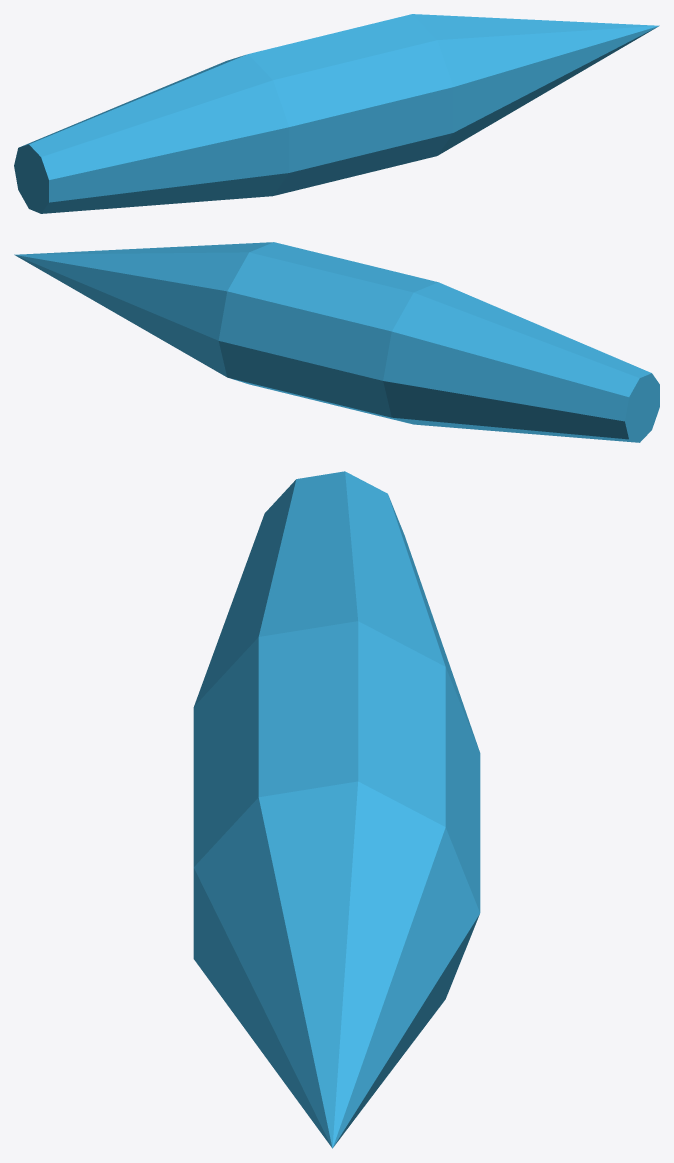
File: ice-bolt.glb
3 views of the same model, one above another, from view 1: azimuth 30°, elevation 25°; view 2: azimuth 150°, elevation 25°; view 3: azimuth 270°, elevation 25° (orthographic). The views are drawn at different scales.
Parts seen in each view (by area): view 1: Ice Bolt; view 2: Ice Bolt; view 3: Ice Bolt.
Boxes of the visible parts, x1,y1,x2,y2 form: Ice Bolt: (14, 14, 659, 213); Ice Bolt: (14, 242, 659, 442); Ice Bolt: (193, 471, 480, 1148).
Bounding box in the file's own units: 0.1801 × 0.0361 × 0.0356.
